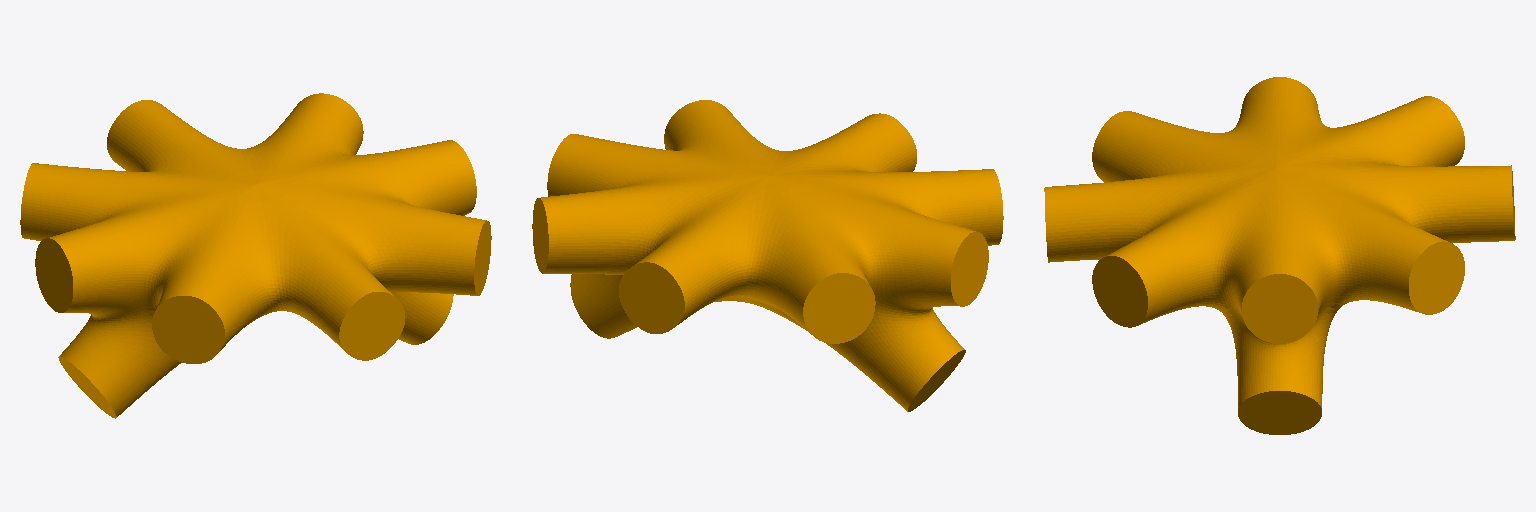
robot.urdf — object:
<robot name="object">
  <link name="object">
    <visual>
      <origin xyz="0 0 0"/>
      <geometry>
        <mesh filename="visual.obj" scale="1 1 1"/>
      </geometry>
    </visual>
    <collision>
      <origin xyz="0 0 0"/>
      <geometry>
        <mesh filename="visual.obj" scale="1 1 1"/>
      </geometry>
    </collision>
    <inertial>
      <mass value="0.05"/>
      <inertia ixx="1.5746957924148354e-05" iyy="2.3578429282988944e-05" izz="3.35614651219336e-05" ixy="5.424757126193646e-10" ixz="-2.3722617373097308e-08" iyz="-5.794428494789837e-07"/>
    </inertial>
  </link>
</robot>

--- Render facts (derived) ---
The picture shows the robot from 3 angles, left to right: view 1: azimuth 30°, elevation 25°; view 2: azimuth 150°, elevation 25°; view 3: azimuth 270°, elevation 25°; orthographic projection.
Model object with 1 links and 0 joints (none), rooted at object, posed all joints at 0.
Visible links, largest first — view 1: object; view 2: object; view 3: object.
Boxes of the visible links, x1,y1,x2,y2 form: object: (20,93,491,418); object: (532,100,1003,411); object: (1044,77,1515,434).
Size in the robot's own frame: 0.0867 by 0.0871 by 0.0399 metres.
Meshes: 1 distinct files referenced, 1 mesh visuals loaded (1 OBJ).
